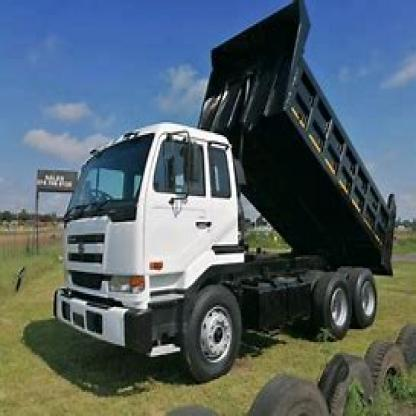dump_truck: (35, 6, 415, 390)
